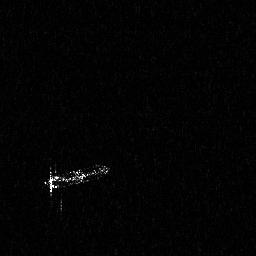ship: (40, 158, 111, 215)
